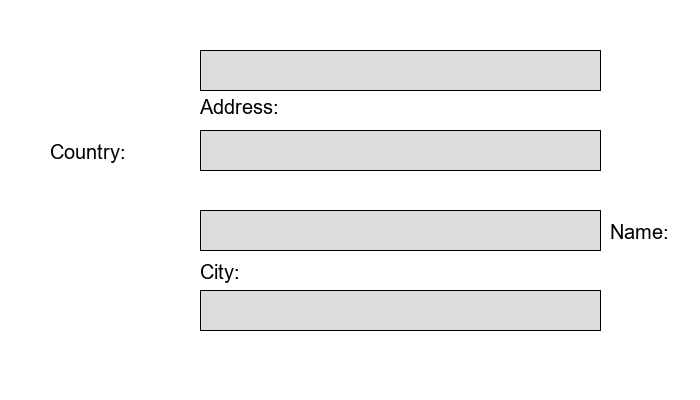Label: (50, 140, 120, 159), (200, 95, 274, 110), (610, 220, 663, 235), (200, 260, 234, 279)
Textbox: (200, 50, 600, 90), (200, 130, 600, 170), (200, 210, 600, 250), (200, 290, 600, 330)
